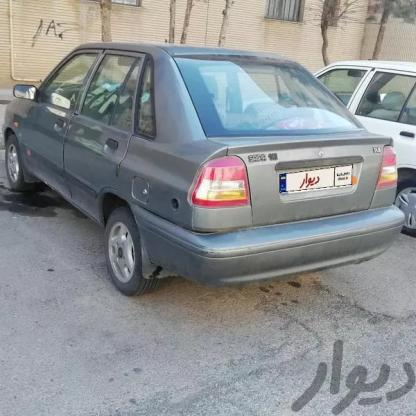Car: (0, 30, 408, 316), (276, 65, 416, 226)
